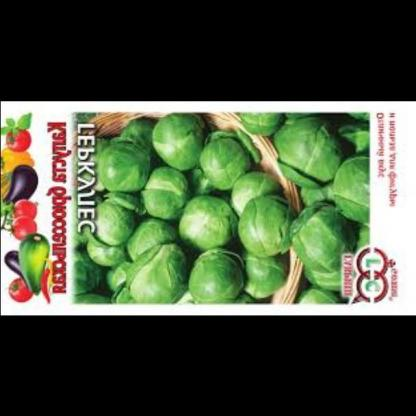brus capusta: (75, 112, 368, 307)
